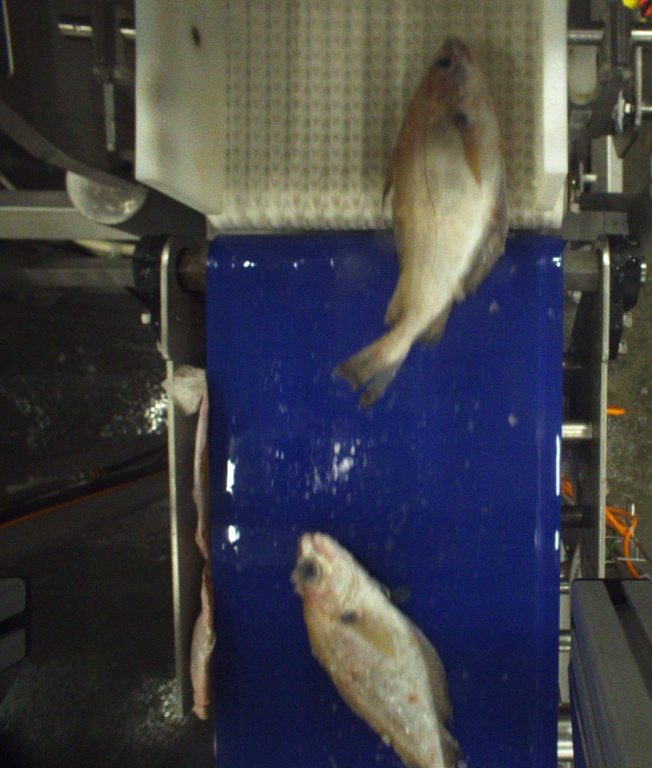BIB: (336, 36, 508, 403)
